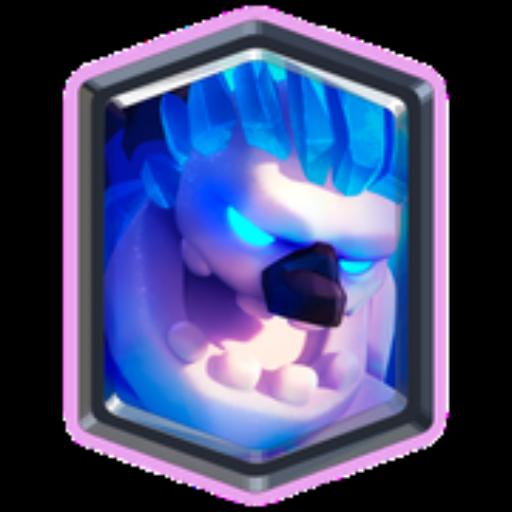ice-golem: (88, 51, 410, 463)
